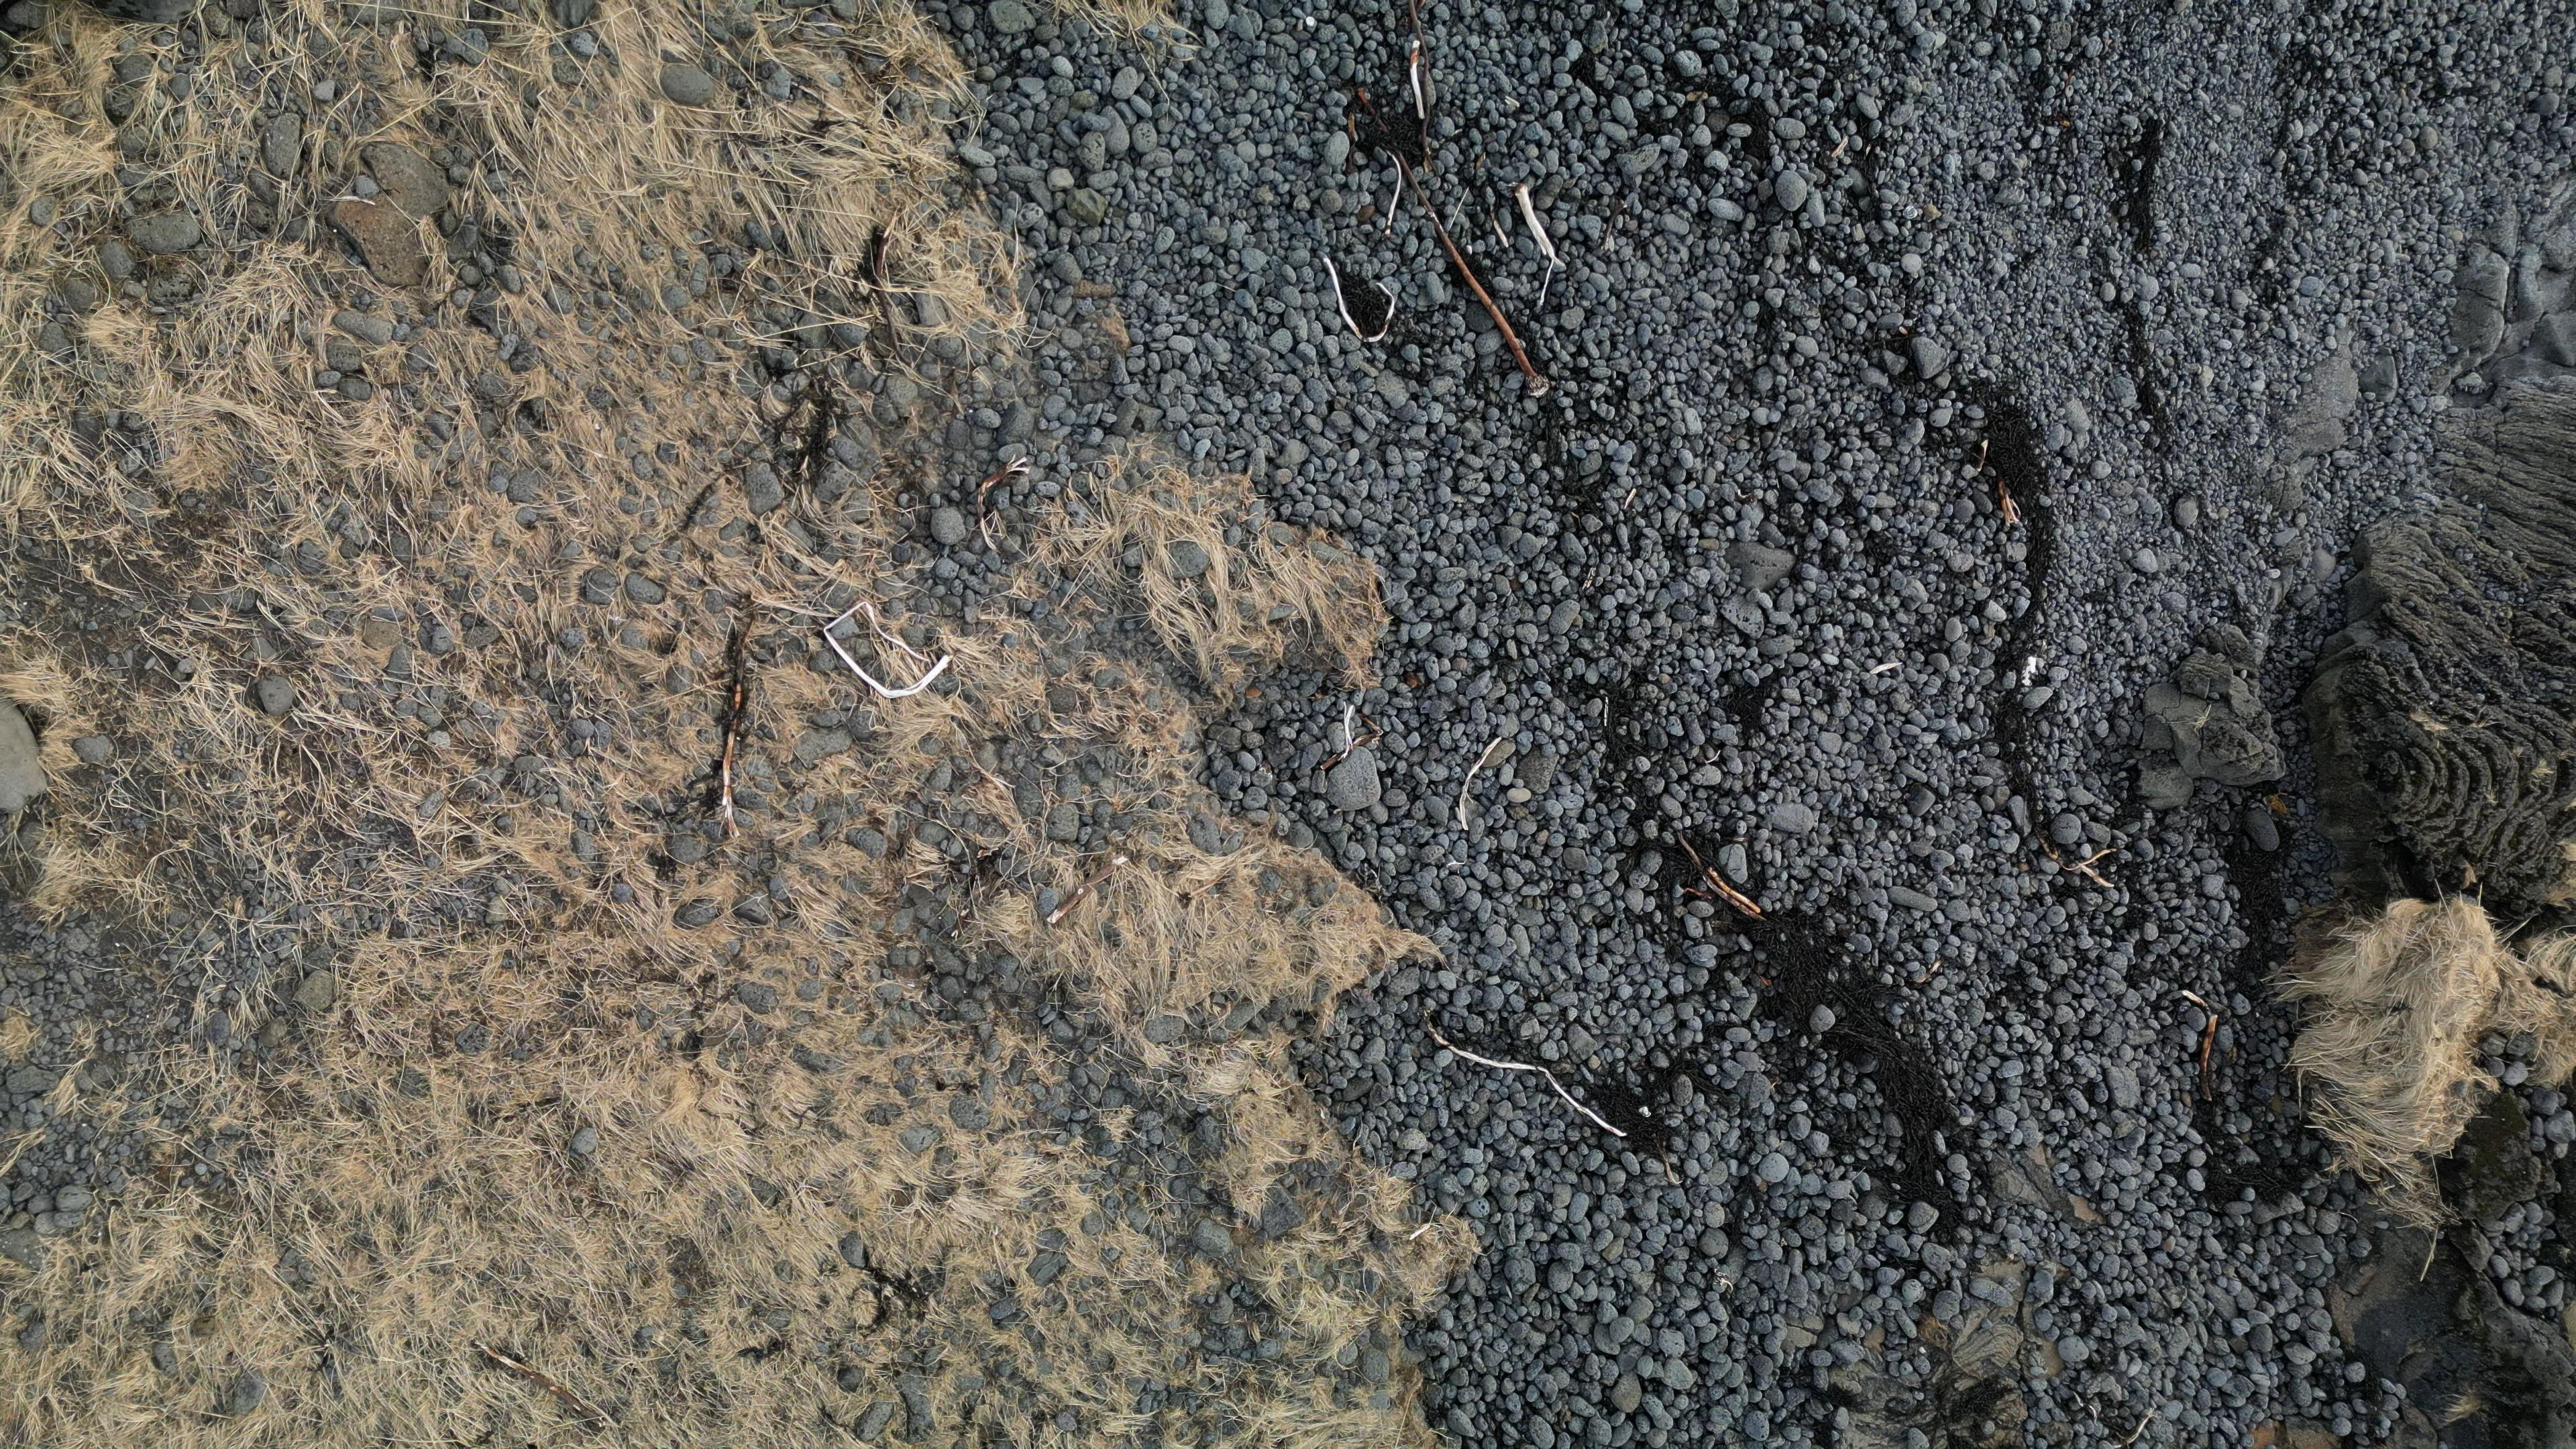trash: (821, 594, 950, 699)
